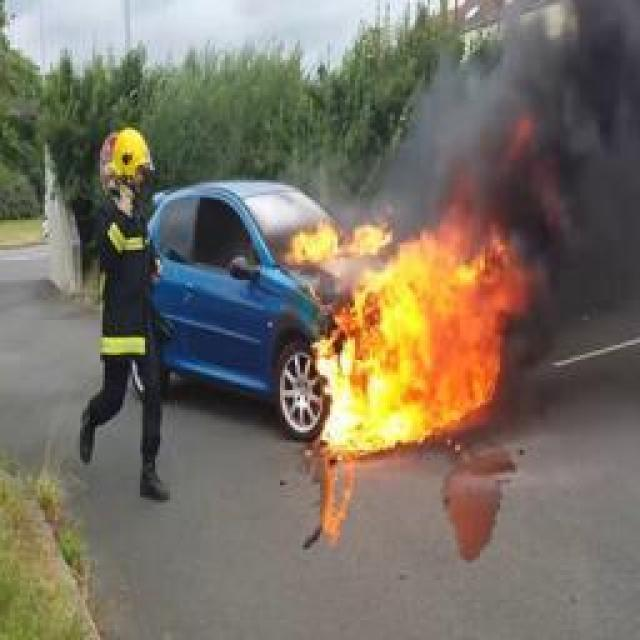Fire: (278, 195, 532, 455)
